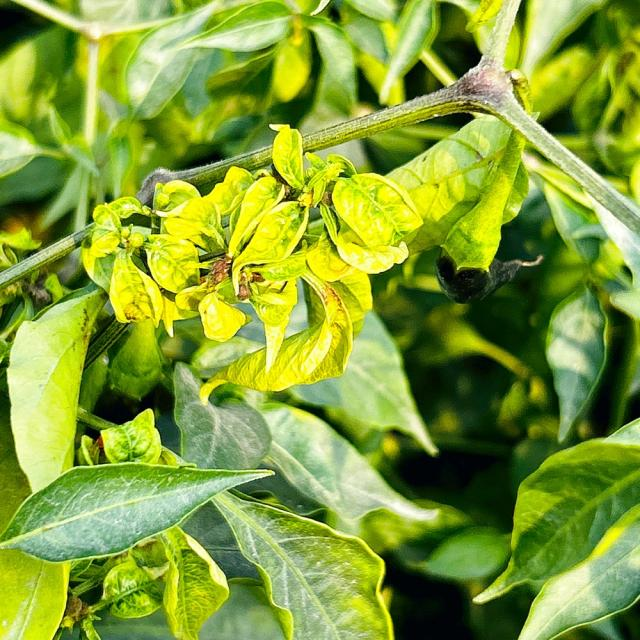Chilli_Leaf_Curl: (1, 1, 638, 638), (80, 121, 424, 402), (1, 407, 393, 638), (471, 416, 639, 638), (374, 112, 530, 300), (0, 459, 276, 562), (208, 488, 394, 638), (5, 286, 109, 494)
